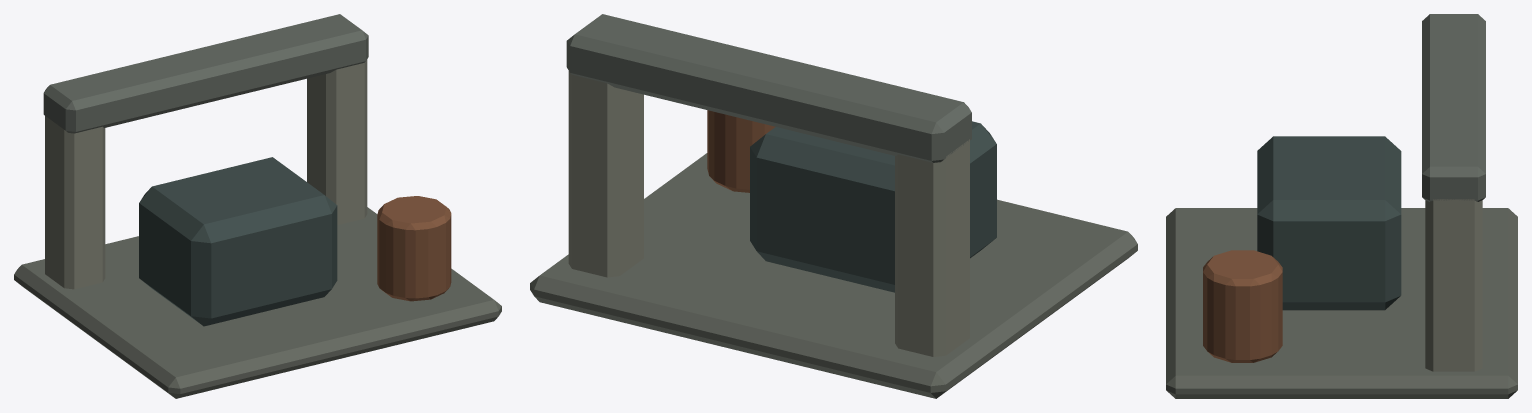
The model's file is env_ruin.glb.
The picture shows the model from 3 angles, left to right: view 1: azimuth 30°, elevation 25°; view 2: azimuth 150°, elevation 25°; view 3: azimuth 270°, elevation 25°; orthographic projection. The views are drawn at different scales.
Parts seen in each view (by area): view 1: Abandoned pump station; view 2: Abandoned pump station; view 3: Abandoned pump station.
Part boxes in pixels (bbox=[...]): Abandoned pump station: bbox=[14, 14, 501, 398]; Abandoned pump station: bbox=[530, 14, 1137, 398]; Abandoned pump station: bbox=[1166, 14, 1517, 398].
Bounding box in the file's own units: 1.3 × 0.775 × 1.1.
